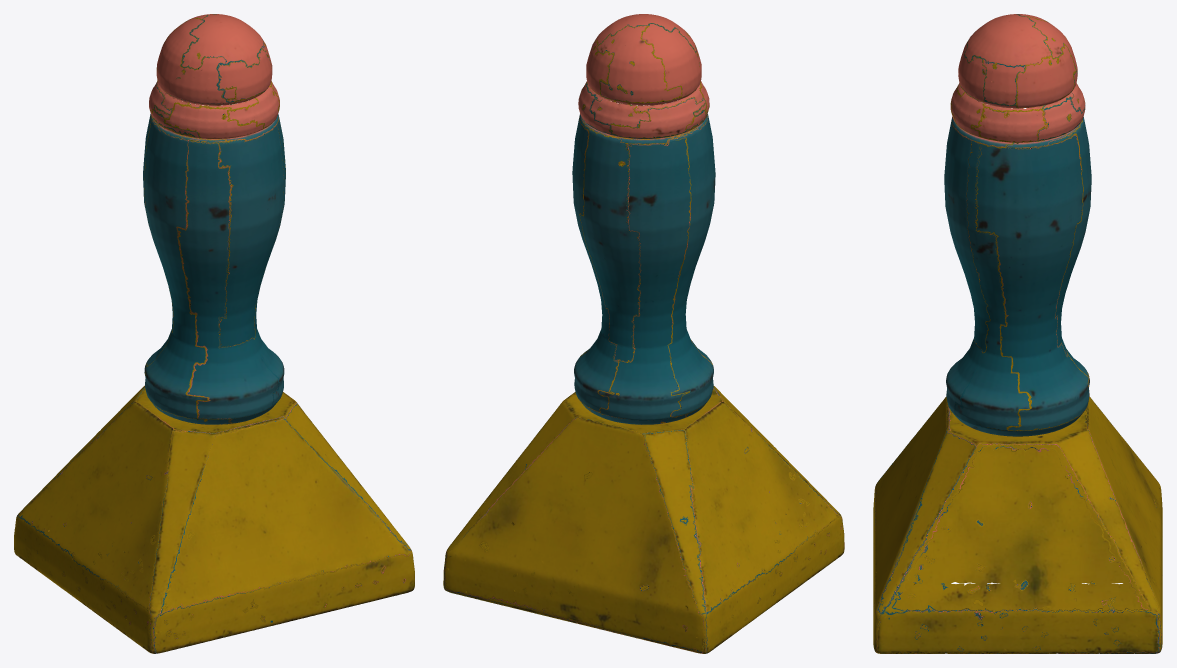
The picture shows the model from 3 angles, left to right: view 1: azimuth 30°, elevation 25°; view 2: azimuth 150°, elevation 25°; view 3: azimuth 270°, elevation 25°; orthographic projection. The views are drawn at different scales.
Bounding box in the file's own units: 0.8398 × 1.67 × 0.7687.
1 material, 1 textured.
